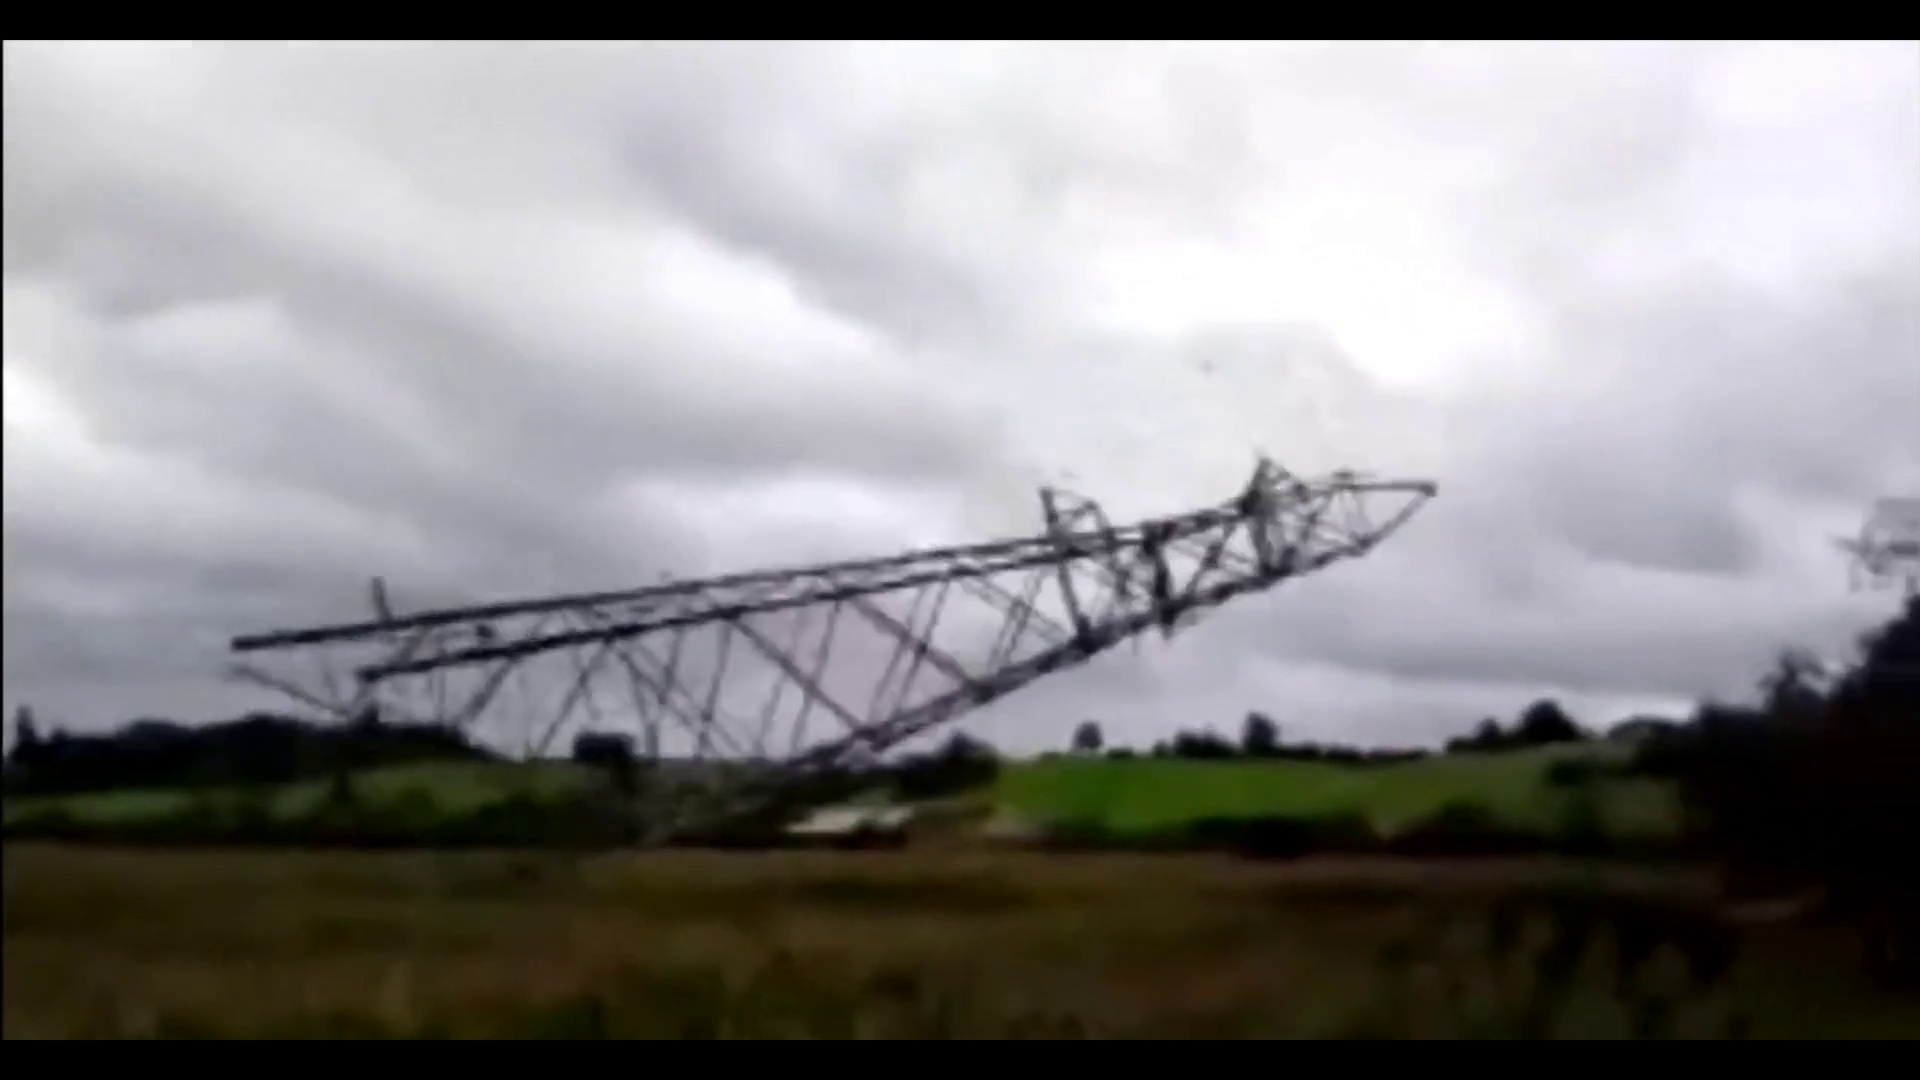tower_down: (287, 417, 1509, 733)
